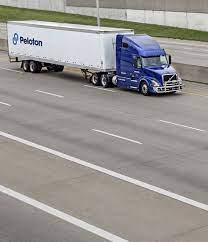truck: (7, 19, 185, 96)
